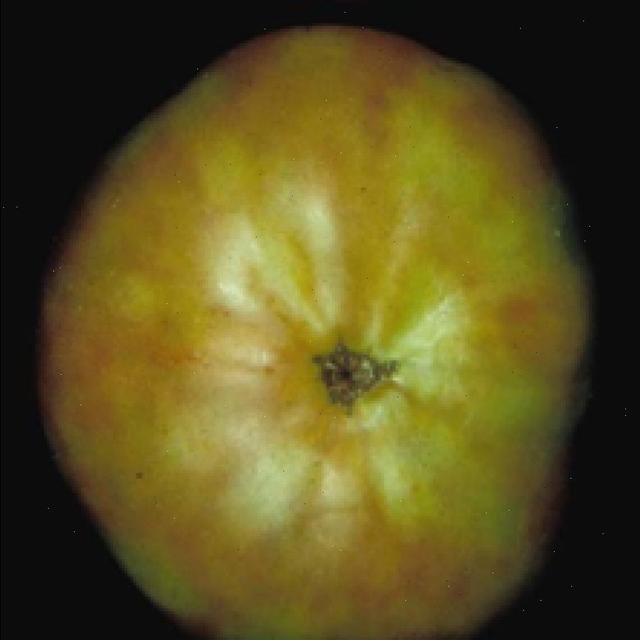Spotted wilt Virus Fruit: (25, 19, 392, 427)
